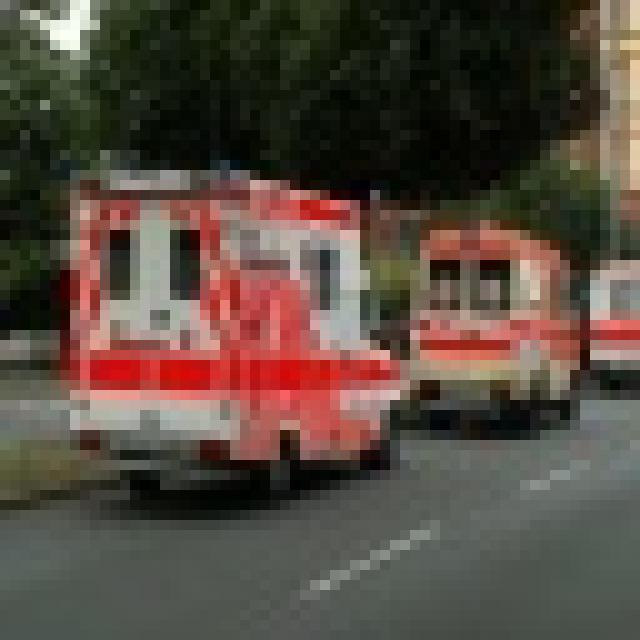Ambulance: (60, 160, 400, 490)
